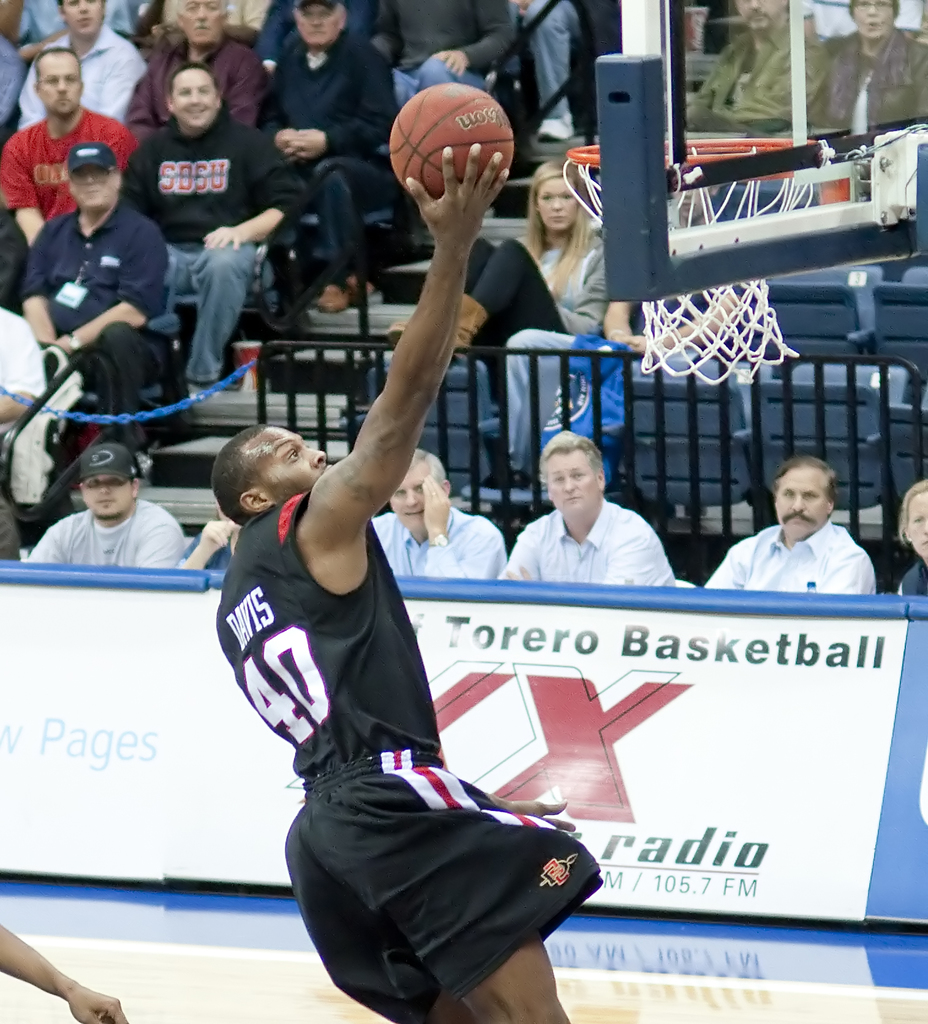Ball: (386, 83, 520, 200)
